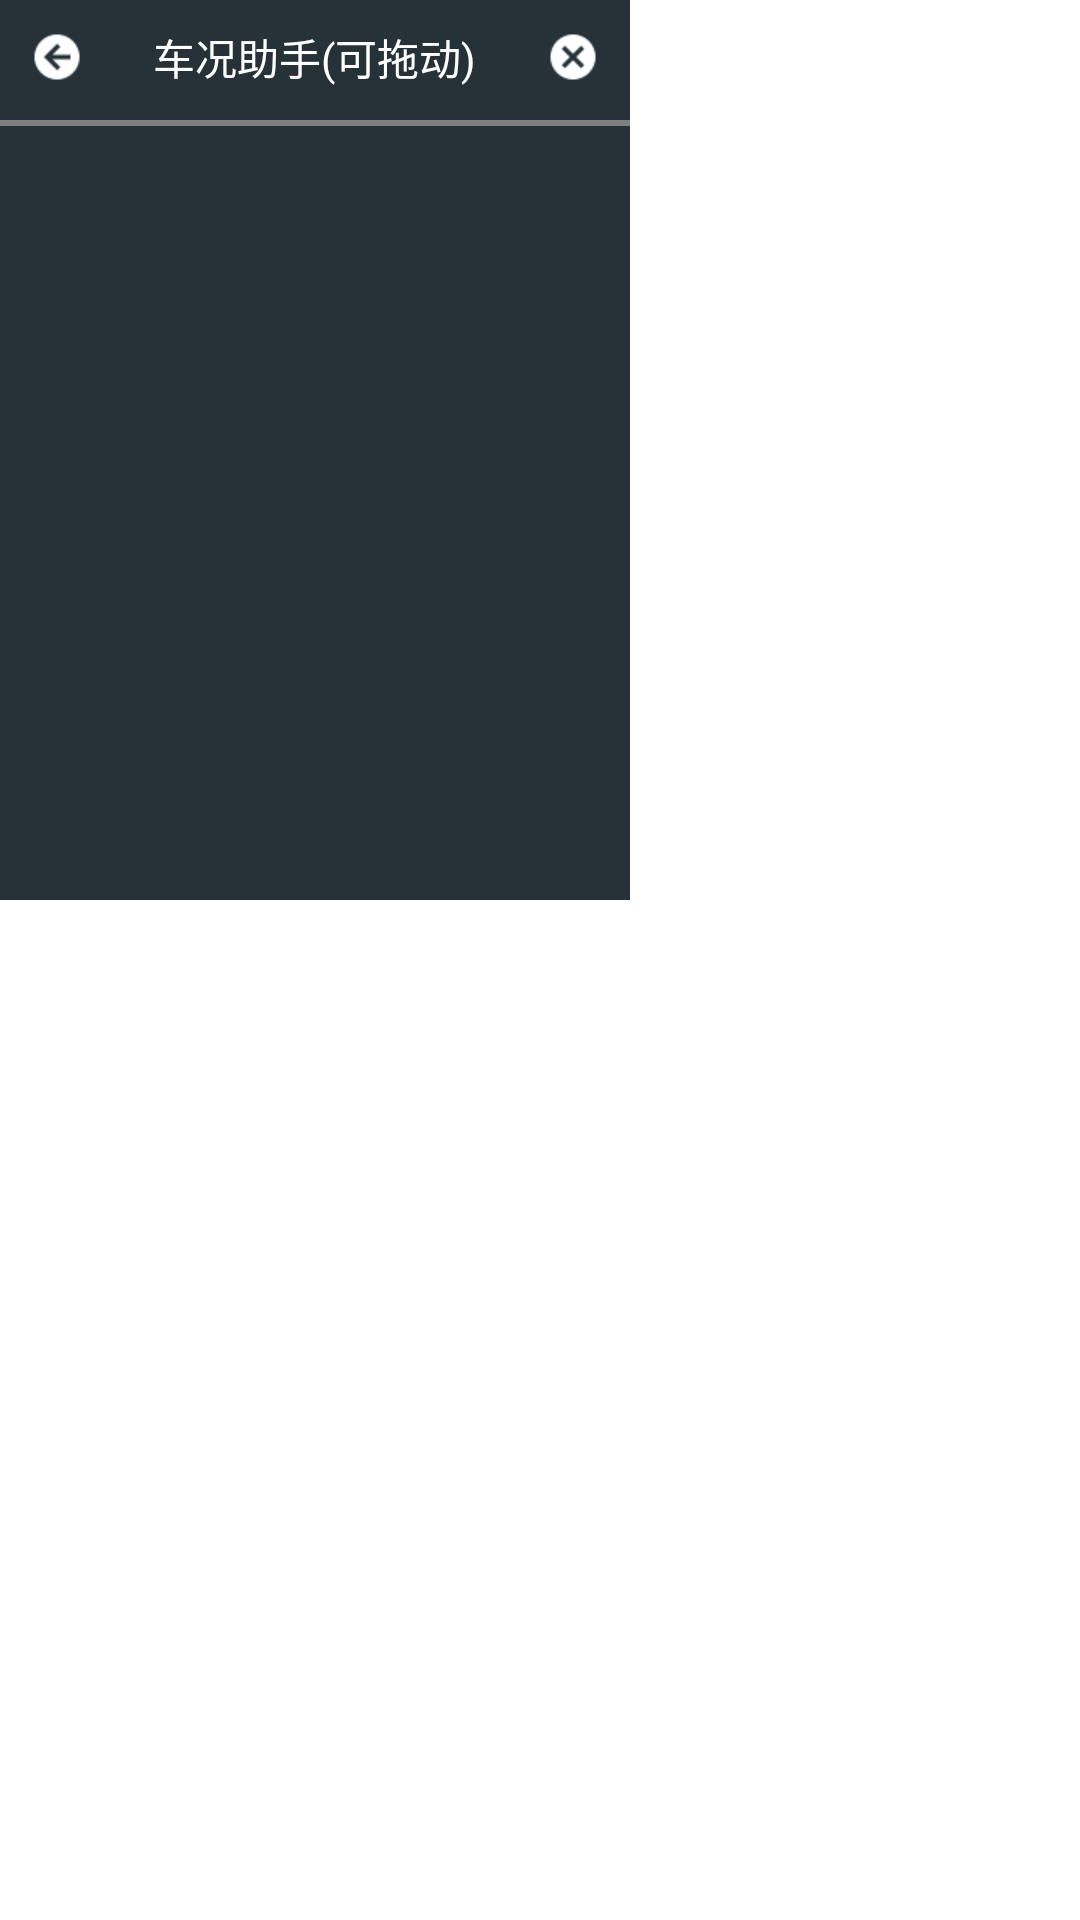

Where to tap for icons on this 1080px×1920px app screen, as (x=x, y=y):
arrow left circle: (x=57, y=57)
close circle: (x=573, y=57)
